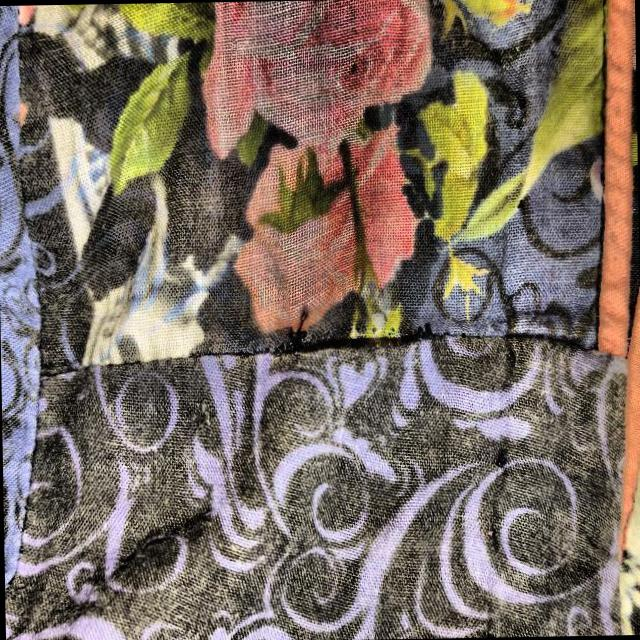gray stitch: (237, 274, 481, 388)
